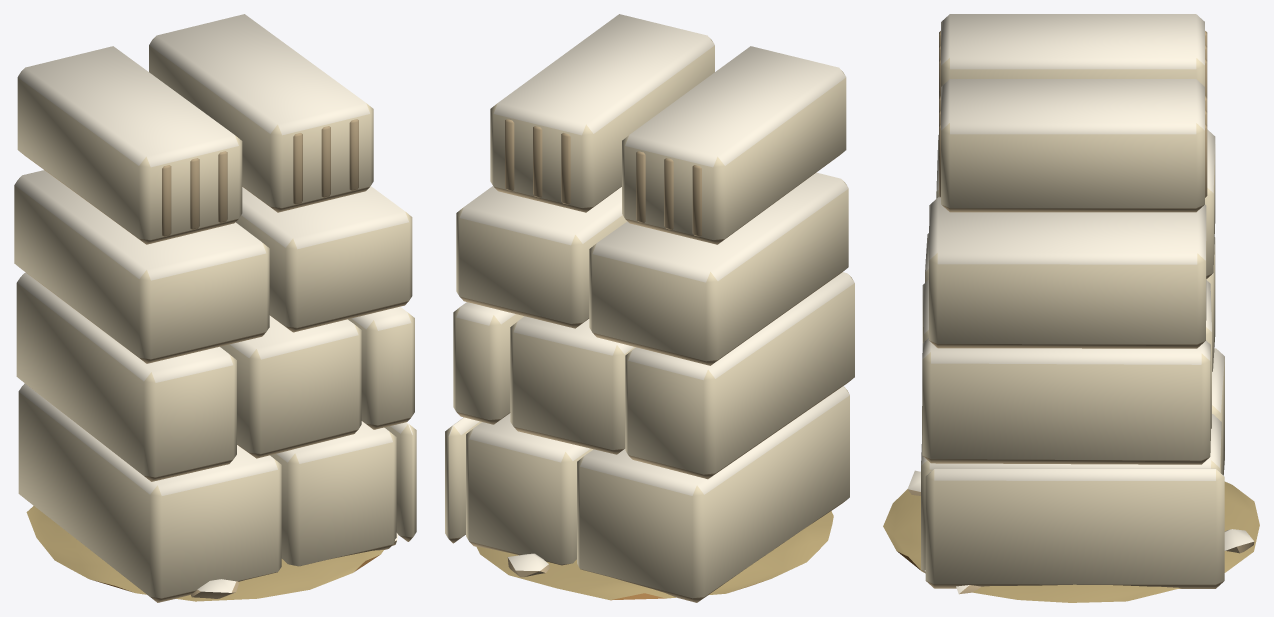
The model's file is MarbleBlocksB.fbx.
3 renders of one model, left to right at view 1: azimuth 30°, elevation 25°; view 2: azimuth 150°, elevation 25°; view 3: azimuth 270°, elevation 25°, orthographic.
Parts seen in each view (by area): view 1: MarbleBlocksB; view 2: MarbleBlocksB; view 3: MarbleBlocksB.
Part boxes in pixels (x1,y1,x2,y2): MarbleBlocksB: [14, 14, 416, 602]; MarbleBlocksB: [445, 14, 854, 602]; MarbleBlocksB: [883, 14, 1259, 602].
Size of the model in its own units: 1.68 by 2.25 by 1.71.
Materials: 1 (1 with a texture image).
